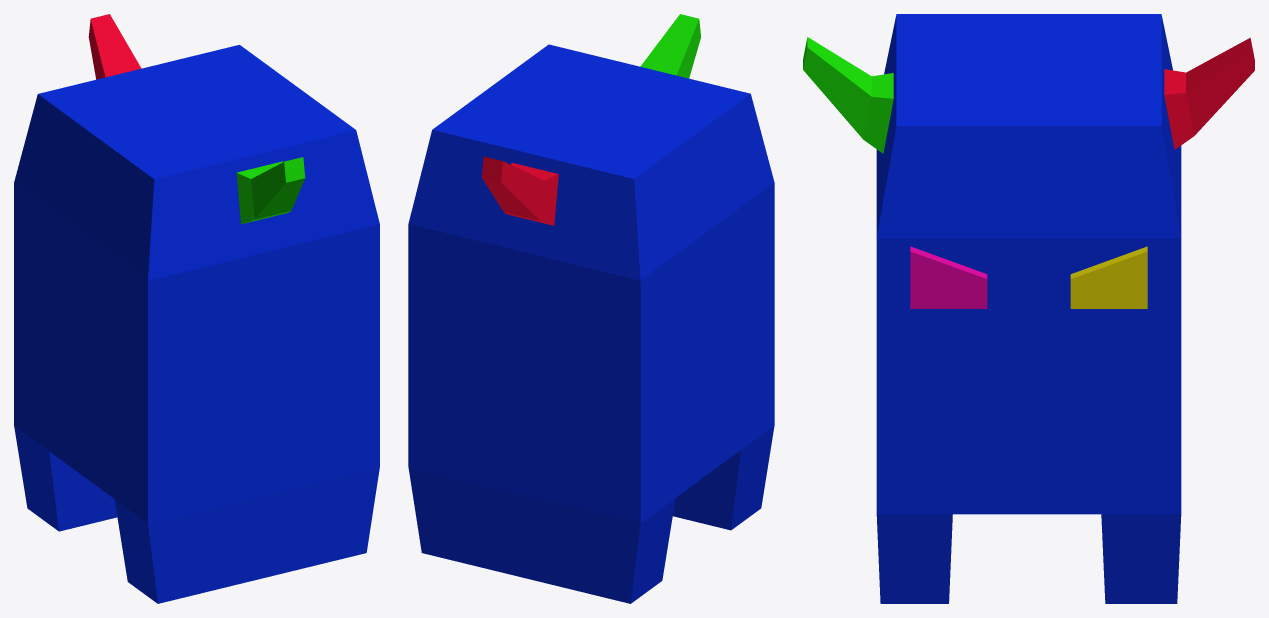
File: Axerang.fbx
The picture shows the model from 3 angles, left to right: view 1: azimuth 30°, elevation 25°; view 2: azimuth 150°, elevation 25°; view 3: azimuth 270°, elevation 25°; orthographic projection. The views are drawn at different scales.
Parts seen in each view (by area): view 1: Cube, Cube.002, Cube.001; view 2: Cube, Cube.001, Cube.002; view 3: Cube, Cube.002, Cube.001, Cube.003, Cube.004.
Boxes of the visible parts, x1,y1,x2,y2 form: Cube: (14, 45, 379, 603); Cube.002: (236, 157, 305, 224); Cube.001: (88, 14, 141, 79); Cube: (408, 44, 774, 603); Cube.001: (482, 156, 558, 225); Cube.002: (640, 14, 700, 78); Cube: (876, 14, 1181, 603); Cube.002: (803, 37, 893, 153); Cube.001: (1164, 37, 1254, 149); Cube.003: (1070, 246, 1147, 308); Cube.004: (910, 246, 987, 308).
Bounding box in the file's own units: 208 × 365 × 297.
